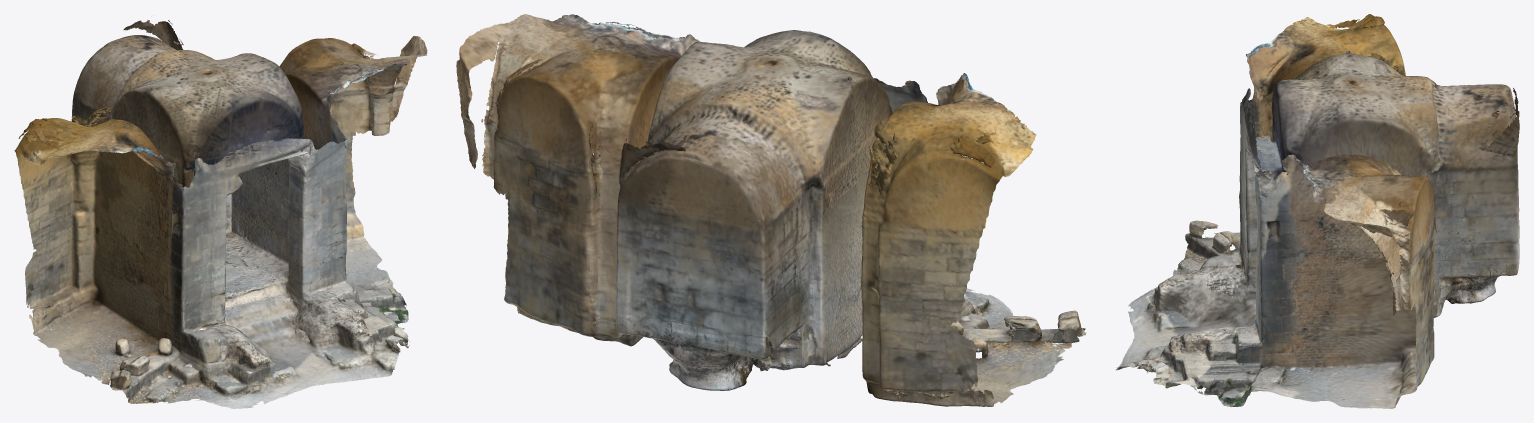
File: sacred-niche-roman-water-temple-zaghouan.glb
3 views of the same model, side by side, from view 1: azimuth 30°, elevation 25°; view 2: azimuth 150°, elevation 25°; view 3: azimuth 270°, elevation 25° (orthographic). The views are drawn at different scales.
Parts seen in each view (by area): view 1: Scaniverse; view 2: Scaniverse; view 3: Scaniverse.
Boxes of the visible parts, x1,y1,x2,y2 form: Scaniverse: (14,20,427,408); Scaniverse: (456,14,1086,406); Scaniverse: (1116,14,1519,408).
Bounding box in the file's own units: 13.42 × 7.59 × 10.79.
Materials: 1 (1 with a texture image).
